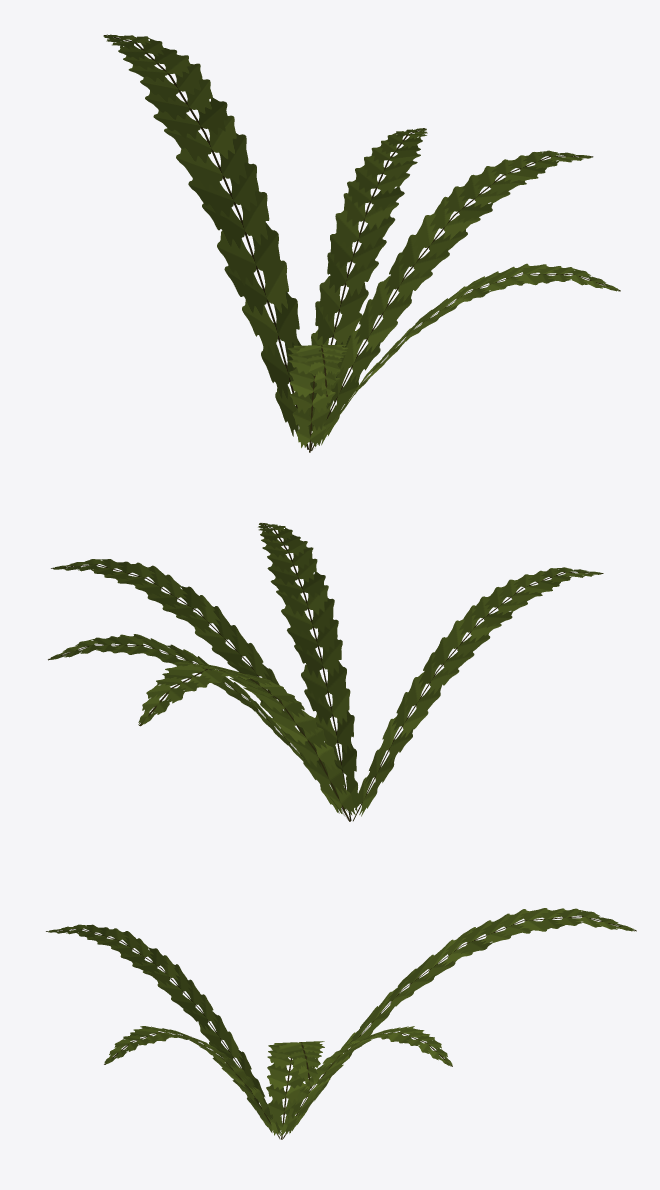
Rendered from fern_2_burnt2.glb.
3 views of the same model, one above another, from view 1: azimuth 30°, elevation 25°; view 2: azimuth 150°, elevation 25°; view 3: azimuth 270°, elevation 25° (orthographic). The views are drawn at different scales.
Visible parts, largest first — view 1: fern_2_burnt2; view 2: fern_2_burnt2; view 3: fern_2_burnt2.
Boxes of the visible parts, x1,y1,x2,y2 form: fern_2_burnt2: (103, 34, 620, 452); fern_2_burnt2: (48, 523, 603, 821); fern_2_burnt2: (46, 908, 636, 1139).
Bounding box in the file's own units: 1.2 × 0.6369 × 1.6.
1 material, 1 textured.
